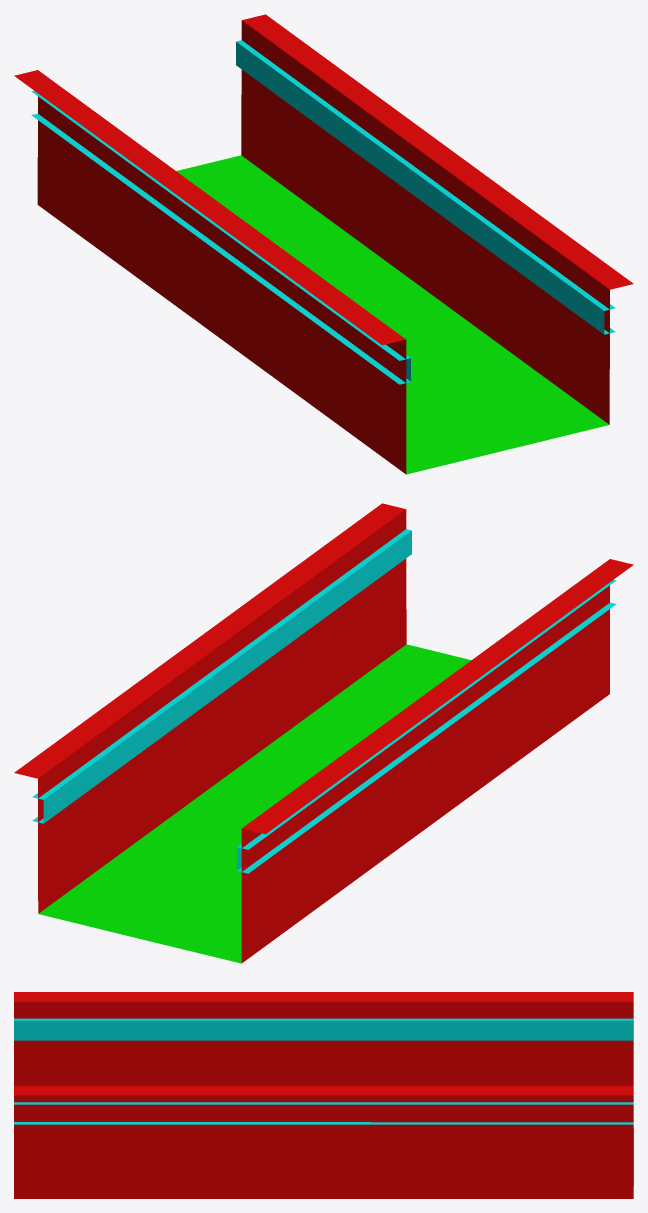
The model's file is Station_Hallway.fbx.
3 views of the same model, one above another, from view 1: azimuth 30°, elevation 25°; view 2: azimuth 150°, elevation 25°; view 3: azimuth 270°, elevation 25° (orthographic). The views are drawn at different scales.
Parts seen in each view (by area): view 1: Pasillo1; view 2: Pasillo1; view 3: Pasillo1.
Boxes of the visible parts, x1,y1,x2,y2 form: Pasillo1: (14,14,633,474); Pasillo1: (14,503,633,963); Pasillo1: (14,992,633,1198).
Size of the model in its own units: 56.09 by 28.75 by 142.
